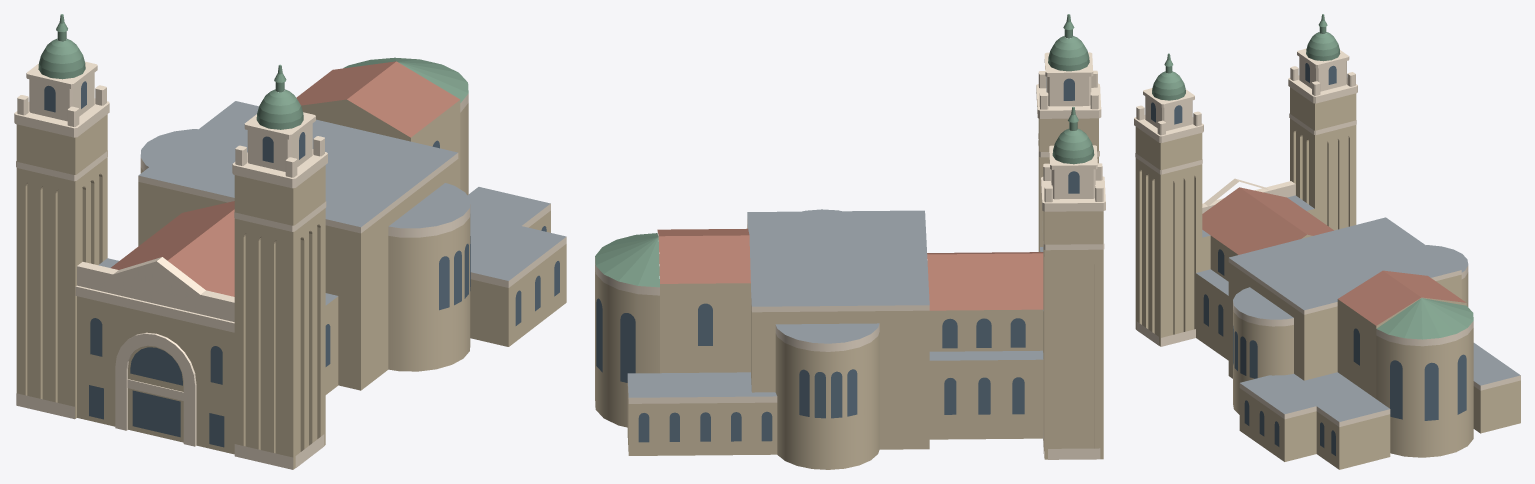
File: detail.glb
The picture shows the model from 3 angles, left to right: view 1: azimuth 30°, elevation 25°; view 2: azimuth 150°, elevation 25°; view 3: azimuth 270°, elevation 25°; orthographic projection. The views are drawn at different scales.
Visible parts, largest first — view 1: st-james-cathedral; view 2: st-james-cathedral; view 3: st-james-cathedral.
Boxes of the visible parts, box(x1,y1,x2,y2) form: st-james-cathedral: box(14, 14, 566, 469); st-james-cathedral: box(595, 14, 1105, 469); st-james-cathedral: box(1134, 14, 1520, 469).
Bounding box in the file's own units: 72.88 × 49.6 × 62.25.
